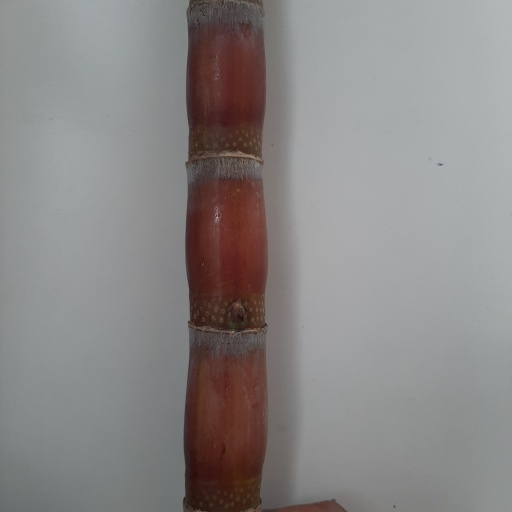Bud: (226, 301, 249, 327)
